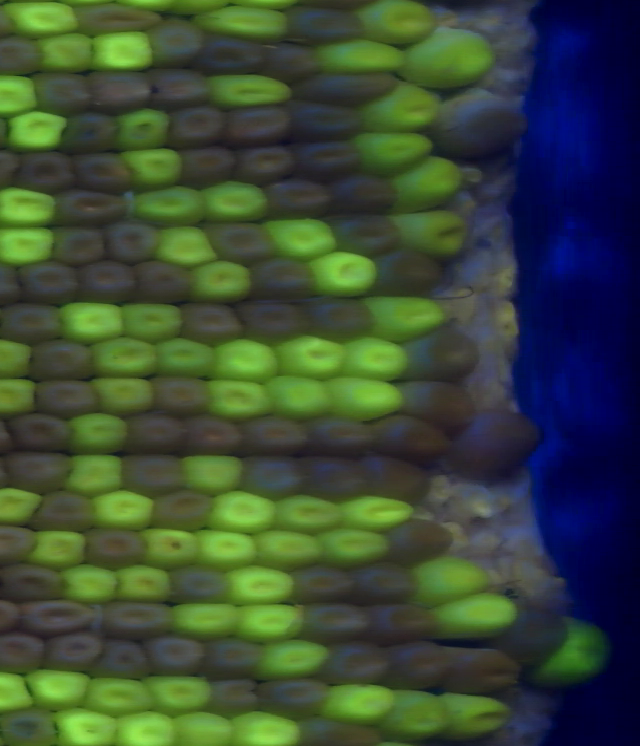fluorescent: (536, 606, 622, 687), (423, 580, 519, 641), (399, 30, 507, 83), (191, 4, 297, 48), (391, 155, 469, 214), (352, 131, 444, 180), (374, 685, 451, 743), (436, 687, 520, 739), (412, 559, 497, 610), (366, 86, 449, 137), (323, 677, 401, 730), (396, 206, 471, 261), (207, 70, 297, 115), (361, 1, 434, 53), (186, 522, 264, 570), (86, 26, 162, 75), (185, 259, 264, 306), (203, 488, 280, 536), (115, 295, 190, 344), (0, 1, 91, 41), (315, 37, 406, 77), (141, 521, 210, 573), (229, 565, 302, 614), (271, 331, 347, 378), (215, 336, 285, 387), (144, 335, 225, 379), (260, 216, 337, 262), (153, 222, 225, 271), (84, 486, 159, 533), (335, 374, 408, 422), (369, 294, 444, 340), (308, 249, 376, 299), (0, 185, 72, 232), (128, 185, 212, 225), (62, 449, 135, 495), (224, 706, 306, 746), (256, 531, 332, 574), (338, 337, 412, 381), (236, 603, 310, 647), (208, 376, 279, 421), (24, 666, 91, 713), (252, 641, 334, 679), (120, 146, 187, 192), (171, 599, 246, 640), (167, 707, 245, 746), (91, 333, 160, 377), (67, 415, 141, 456), (84, 677, 158, 718), (318, 528, 395, 567), (202, 179, 270, 223), (57, 560, 122, 606), (181, 452, 247, 497), (148, 672, 217, 715), (4, 111, 72, 154), (270, 383, 338, 426), (116, 565, 175, 613), (272, 493, 346, 531), (56, 704, 122, 746), (63, 299, 127, 342), (94, 372, 159, 413), (0, 484, 53, 534), (42, 32, 101, 76), (348, 494, 417, 531), (29, 531, 94, 570), (0, 227, 58, 268), (119, 108, 174, 151), (0, 334, 45, 381), (117, 712, 178, 746), (0, 373, 42, 419), (0, 73, 41, 114), (0, 669, 31, 711)
nonfluorescent: (450, 410, 549, 474), (506, 598, 571, 684), (440, 98, 526, 162), (372, 411, 461, 469), (445, 644, 532, 702), (390, 376, 487, 428), (382, 516, 460, 576), (366, 246, 446, 303), (382, 633, 456, 693), (207, 213, 287, 265), (404, 331, 486, 381), (307, 299, 386, 350), (145, 373, 221, 426), (235, 299, 315, 346), (236, 415, 324, 457), (0, 554, 71, 606), (141, 628, 214, 678), (114, 452, 190, 500), (343, 560, 419, 608), (290, 714, 404, 746), (84, 525, 161, 572), (28, 485, 100, 535), (362, 451, 431, 503), (263, 173, 339, 220), (316, 637, 392, 684), (16, 597, 103, 638), (295, 134, 372, 180), (82, 65, 155, 113), (7, 445, 78, 494), (295, 68, 403, 100), (51, 184, 133, 226), (247, 256, 321, 302), (361, 600, 442, 642), (103, 598, 180, 642), (219, 104, 303, 144), (299, 414, 383, 454), (179, 144, 252, 190), (147, 490, 221, 535), (103, 216, 167, 268), (180, 298, 252, 344), (11, 262, 84, 307), (194, 33, 269, 76), (180, 414, 255, 457), (167, 99, 231, 149), (299, 452, 363, 502), (206, 629, 270, 679), (130, 256, 198, 303), (62, 1, 169, 30), (19, 144, 80, 194), (298, 602, 378, 640), (327, 170, 396, 214), (332, 211, 398, 256), (287, 98, 361, 138), (242, 456, 307, 501), (122, 412, 190, 455), (149, 62, 211, 109), (33, 69, 95, 116), (290, 1, 361, 42), (0, 707, 74, 746), (261, 676, 328, 719), (92, 631, 152, 679), (166, 565, 235, 606), (240, 141, 307, 183), (40, 630, 107, 672), (8, 413, 78, 453), (70, 149, 141, 188), (76, 260, 145, 300), (30, 340, 100, 379), (59, 109, 122, 151), (33, 380, 99, 420), (145, 19, 199, 65), (50, 224, 112, 264), (0, 304, 66, 341), (266, 39, 314, 85), (299, 562, 349, 606), (0, 631, 50, 673), (0, 521, 44, 566), (212, 677, 258, 716), (0, 35, 40, 76), (0, 591, 31, 643)
